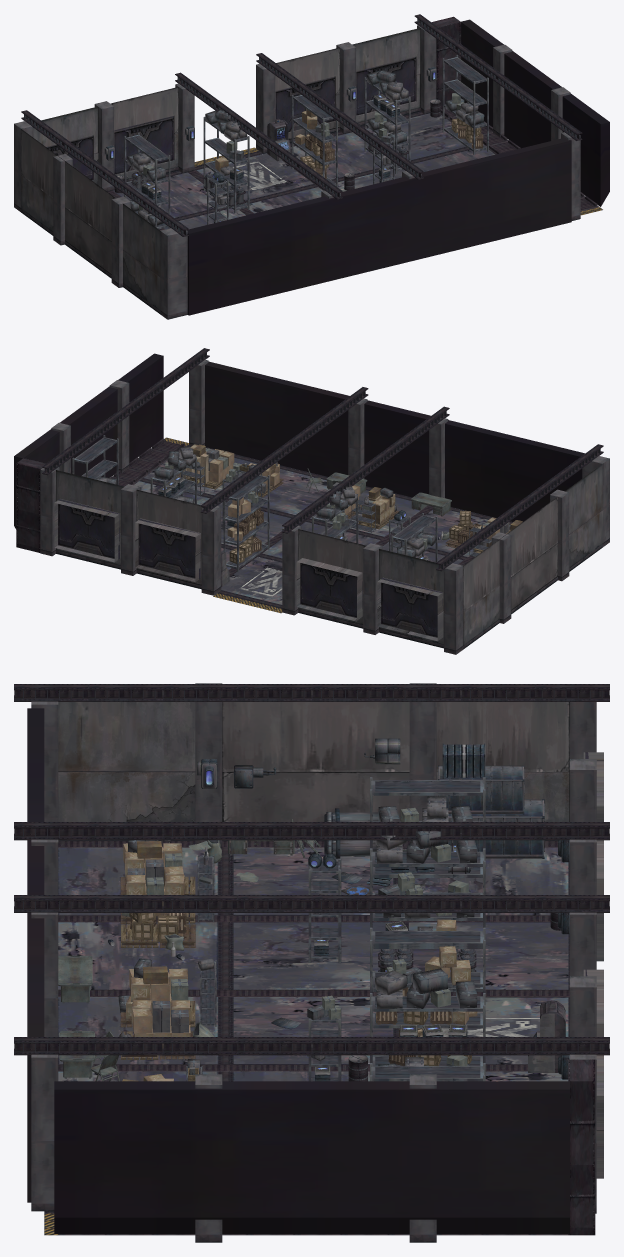
File: SHIPPING.fbx
3 renders of one model, top to bottom at view 1: azimuth 30°, elevation 25°; view 2: azimuth 150°, elevation 25°; view 3: azimuth 270°, elevation 25°, orthographic. The views are drawn at different scales.
Visible parts, largest first — view 1: SHIPING_AREA; view 2: SHIPING_AREA; view 3: SHIPING_AREA.
Part boxes in pixels (x1=…): SHIPING_AREA: x1=14, y1=14, x2=609, y2=319; SHIPING_AREA: x1=14, y1=348, x2=609, y2=654; SHIPING_AREA: x1=14, y1=683, x2=609, y2=1242.
Bounding box in the file's own units: 10313 × 1980 × 6388.
